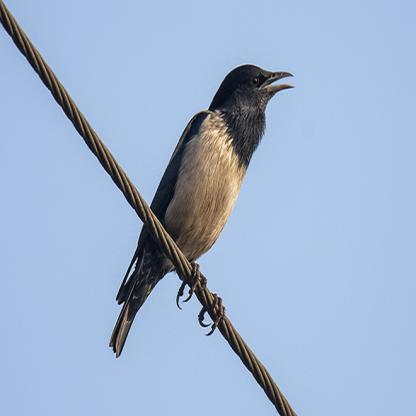Burung: (107, 66, 294, 357)
